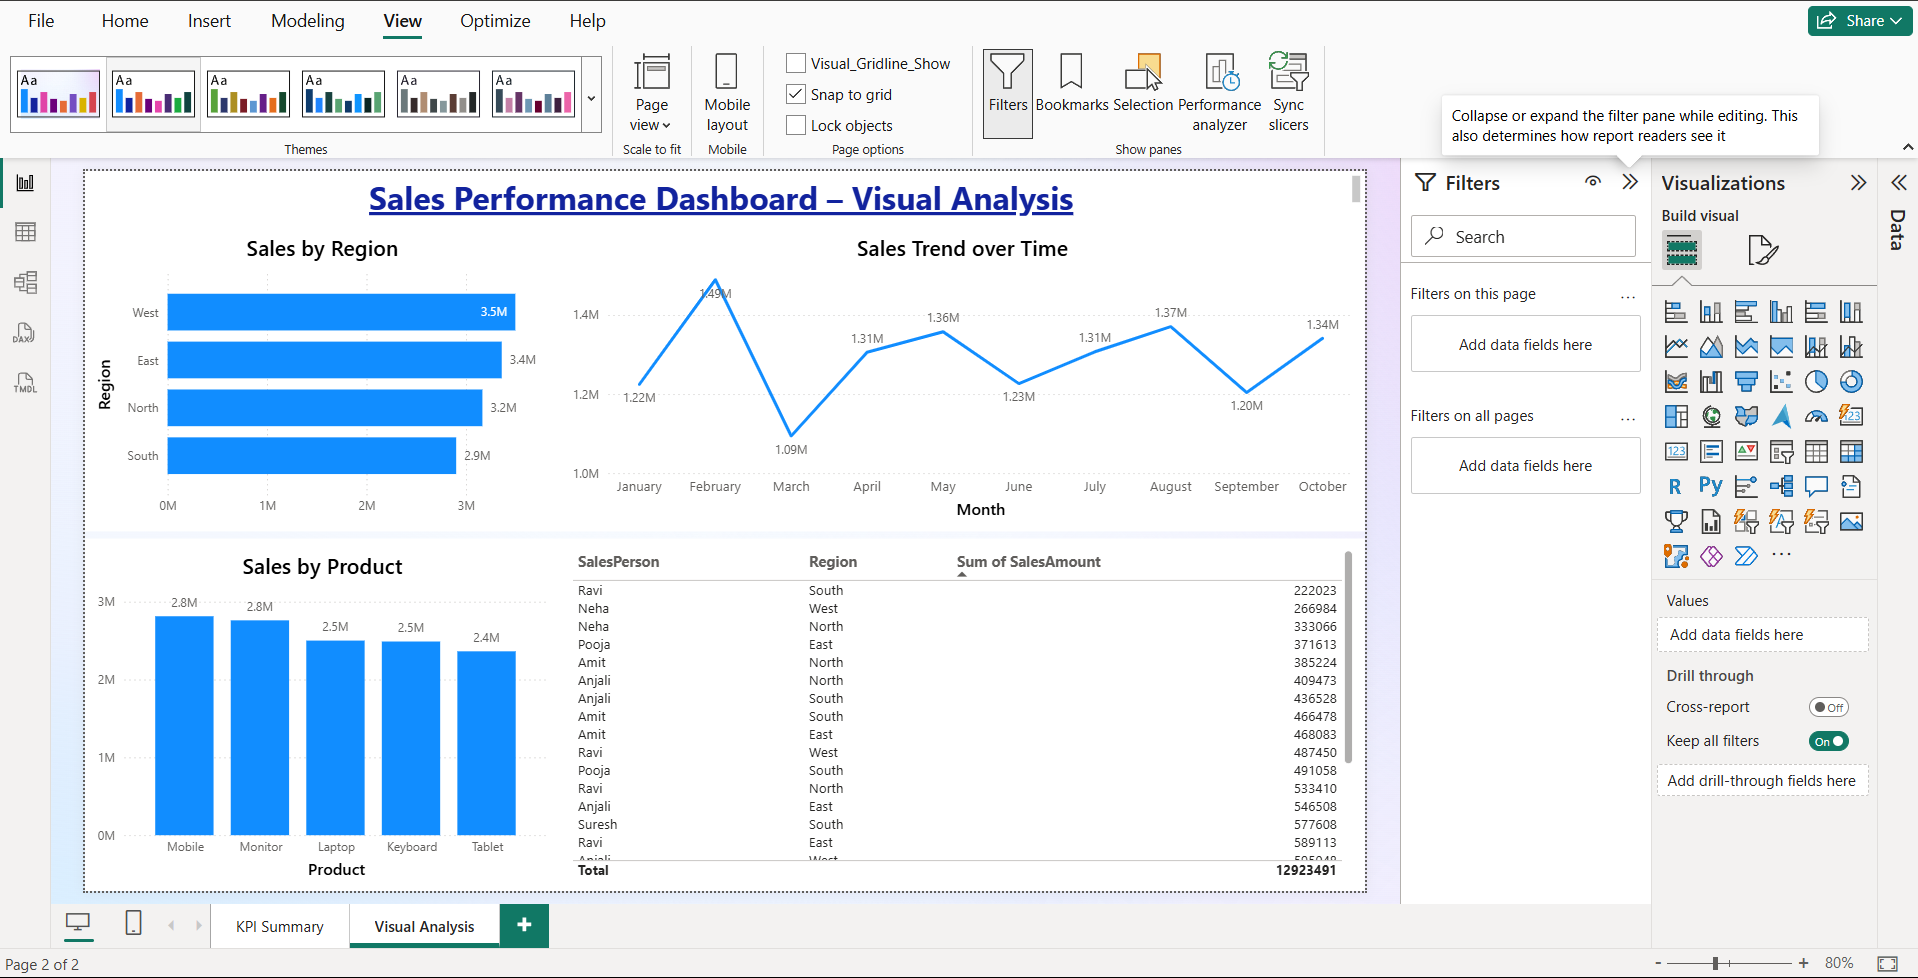

Layout of this report page (visuals, bound fields, positions):
{"tool":"powerbi","page":{"name":"Visual Analysis","canvas":[1280,720],"ordinal":2},"visuals":[{"type":"barChart","title":"Sales by Region","fields":{"Category":["Sales_Data.Region"],"Y":["Sum(Sales_Data.SalesAmount)"]},"box":[0,50,475,310],"z":0},{"type":"clusteredColumnChart","title":"Sales by Product","fields":{"Category":["Sales_Data.Product"],"Y":["Sum(Sales_Data.SalesAmount)"]},"box":[0,367.5,475,352.5],"z":1000},{"type":"lineChart","title":"Sales Trend over Time","fields":{"Category":["Sales_Data.OrderDate.Variation.Date Hierarchy.Month","Sales_Data.OrderDate.Variation.Date Hierarchy.Day"],"Y":["Sum(Sales_Data.SalesAmount)"]},"box":[475,50,805,310],"z":2000},{"type":"tableEx","fields":{"Values":["Sales_Data.SalesPerson","Sales_Data.Region","Sum(Sales_Data.SalesAmount)"]},"box":[475,367.5,805,352.5],"z":3000},{"type":"textbox","box":[0,0,1280,50],"z":4000}]}

Visuals, with their boxes on the page's 1280x720 design canvas (x1, y1, x2, y2). These are canvas units, not pixel positions in the 1918x978 screenshot, which may show the page scaled, cropped or inside an application window:
"Sales by Region" barChart: BBox(0, 50, 475, 360)
"Sales by Product" clusteredColumnChart: BBox(0, 368, 475, 720)
"Sales Trend over Time" lineChart: BBox(475, 50, 1280, 360)
tableEx - Sales_Data.SalesPerson x Sales_Data.Region: BBox(475, 368, 1280, 720)
textbox: BBox(0, 0, 1280, 50)
